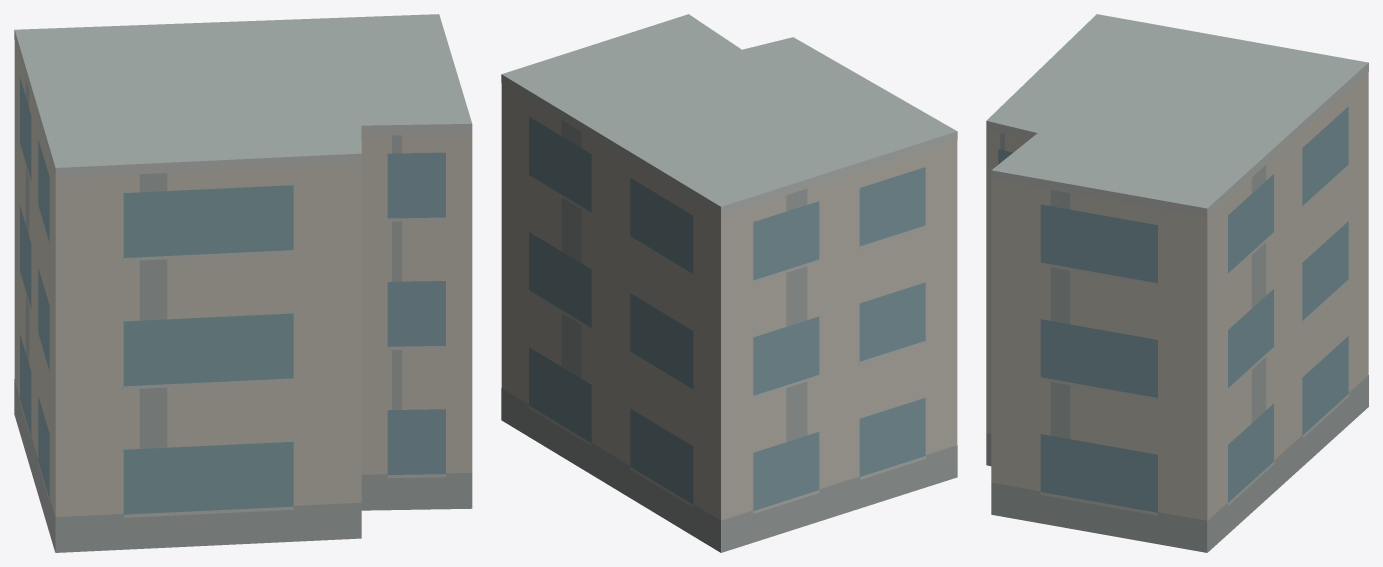
Rendered from residential-deb812f8-f82a-410b-83b6-f0804e37dcac.glb.
The picture shows the model from 3 angles, left to right: view 1: azimuth 30°, elevation 25°; view 2: azimuth 150°, elevation 25°; view 3: azimuth 270°, elevation 25°; orthographic projection. The views are drawn at different scales.
Visible parts, largest first — view 1: residential-deb812f8-f82a-410b-83b6-f0804e37dcac.tmp; view 2: residential-deb812f8-f82a-410b-83b6-f0804e37dcac.tmp; view 3: residential-deb812f8-f82a-410b-83b6-f0804e37dcac.tmp.
Boxes of the visible parts, x1,y1,x2,y2 form: residential-deb812f8-f82a-410b-83b6-f0804e37dcac.tmp: [14, 14, 472, 552]; residential-deb812f8-f82a-410b-83b6-f0804e37dcac.tmp: [501, 14, 957, 552]; residential-deb812f8-f82a-410b-83b6-f0804e37dcac.tmp: [986, 14, 1368, 552].
Bounding box in the file's own units: 11.09 × 9.15 × 9.22.
